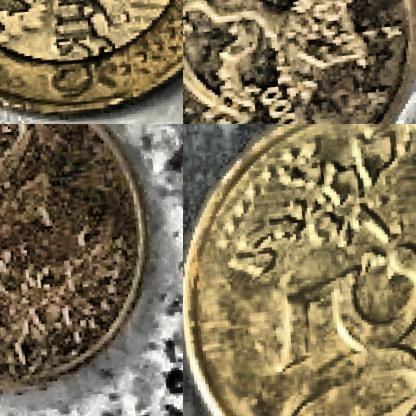coin: (183, 124, 415, 415), (0, 124, 162, 405), (183, 0, 415, 123), (0, 0, 182, 123)
